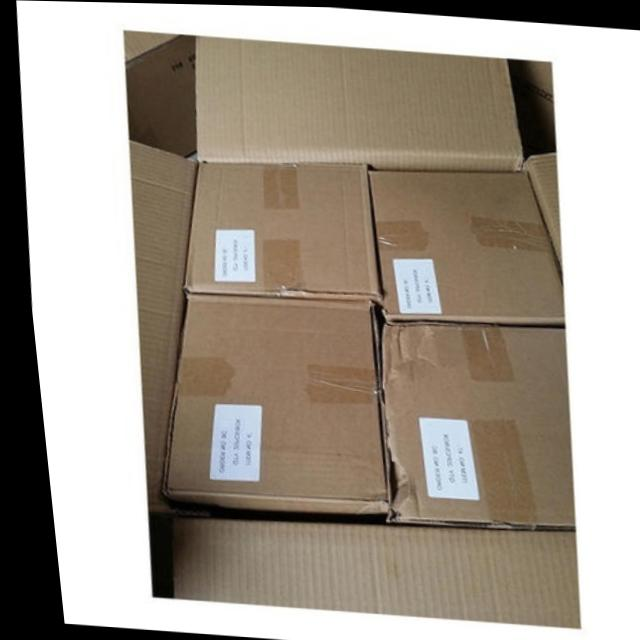box: (152, 291, 379, 522), (376, 319, 564, 528), (365, 169, 558, 321), (177, 161, 373, 303)
